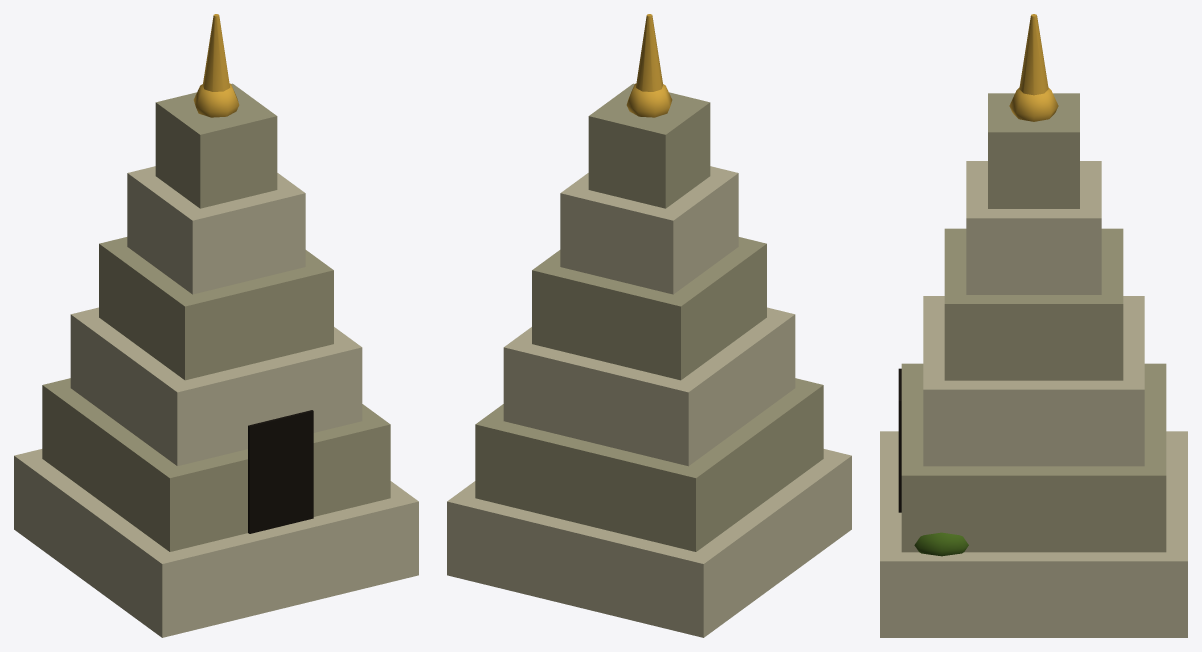
File: jt_temple_spire.glb
3 views of the same model, side by side, from view 1: azimuth 30°, elevation 25°; view 2: azimuth 150°, elevation 25°; view 3: azimuth 270°, elevation 25° (orthographic). The views are drawn at different scales.
Visible parts, largest first — view 1: jt_temple_spire; view 2: jt_temple_spire; view 3: jt_temple_spire.
Boxes of the visible parts, <box> form: jt_temple_spire: <box>14,14,418,637</box>; jt_temple_spire: <box>447,14,851,637</box>; jt_temple_spire: <box>880,14,1187,637</box>.
Size of the model in its own units: 2 by 4 by 2.
